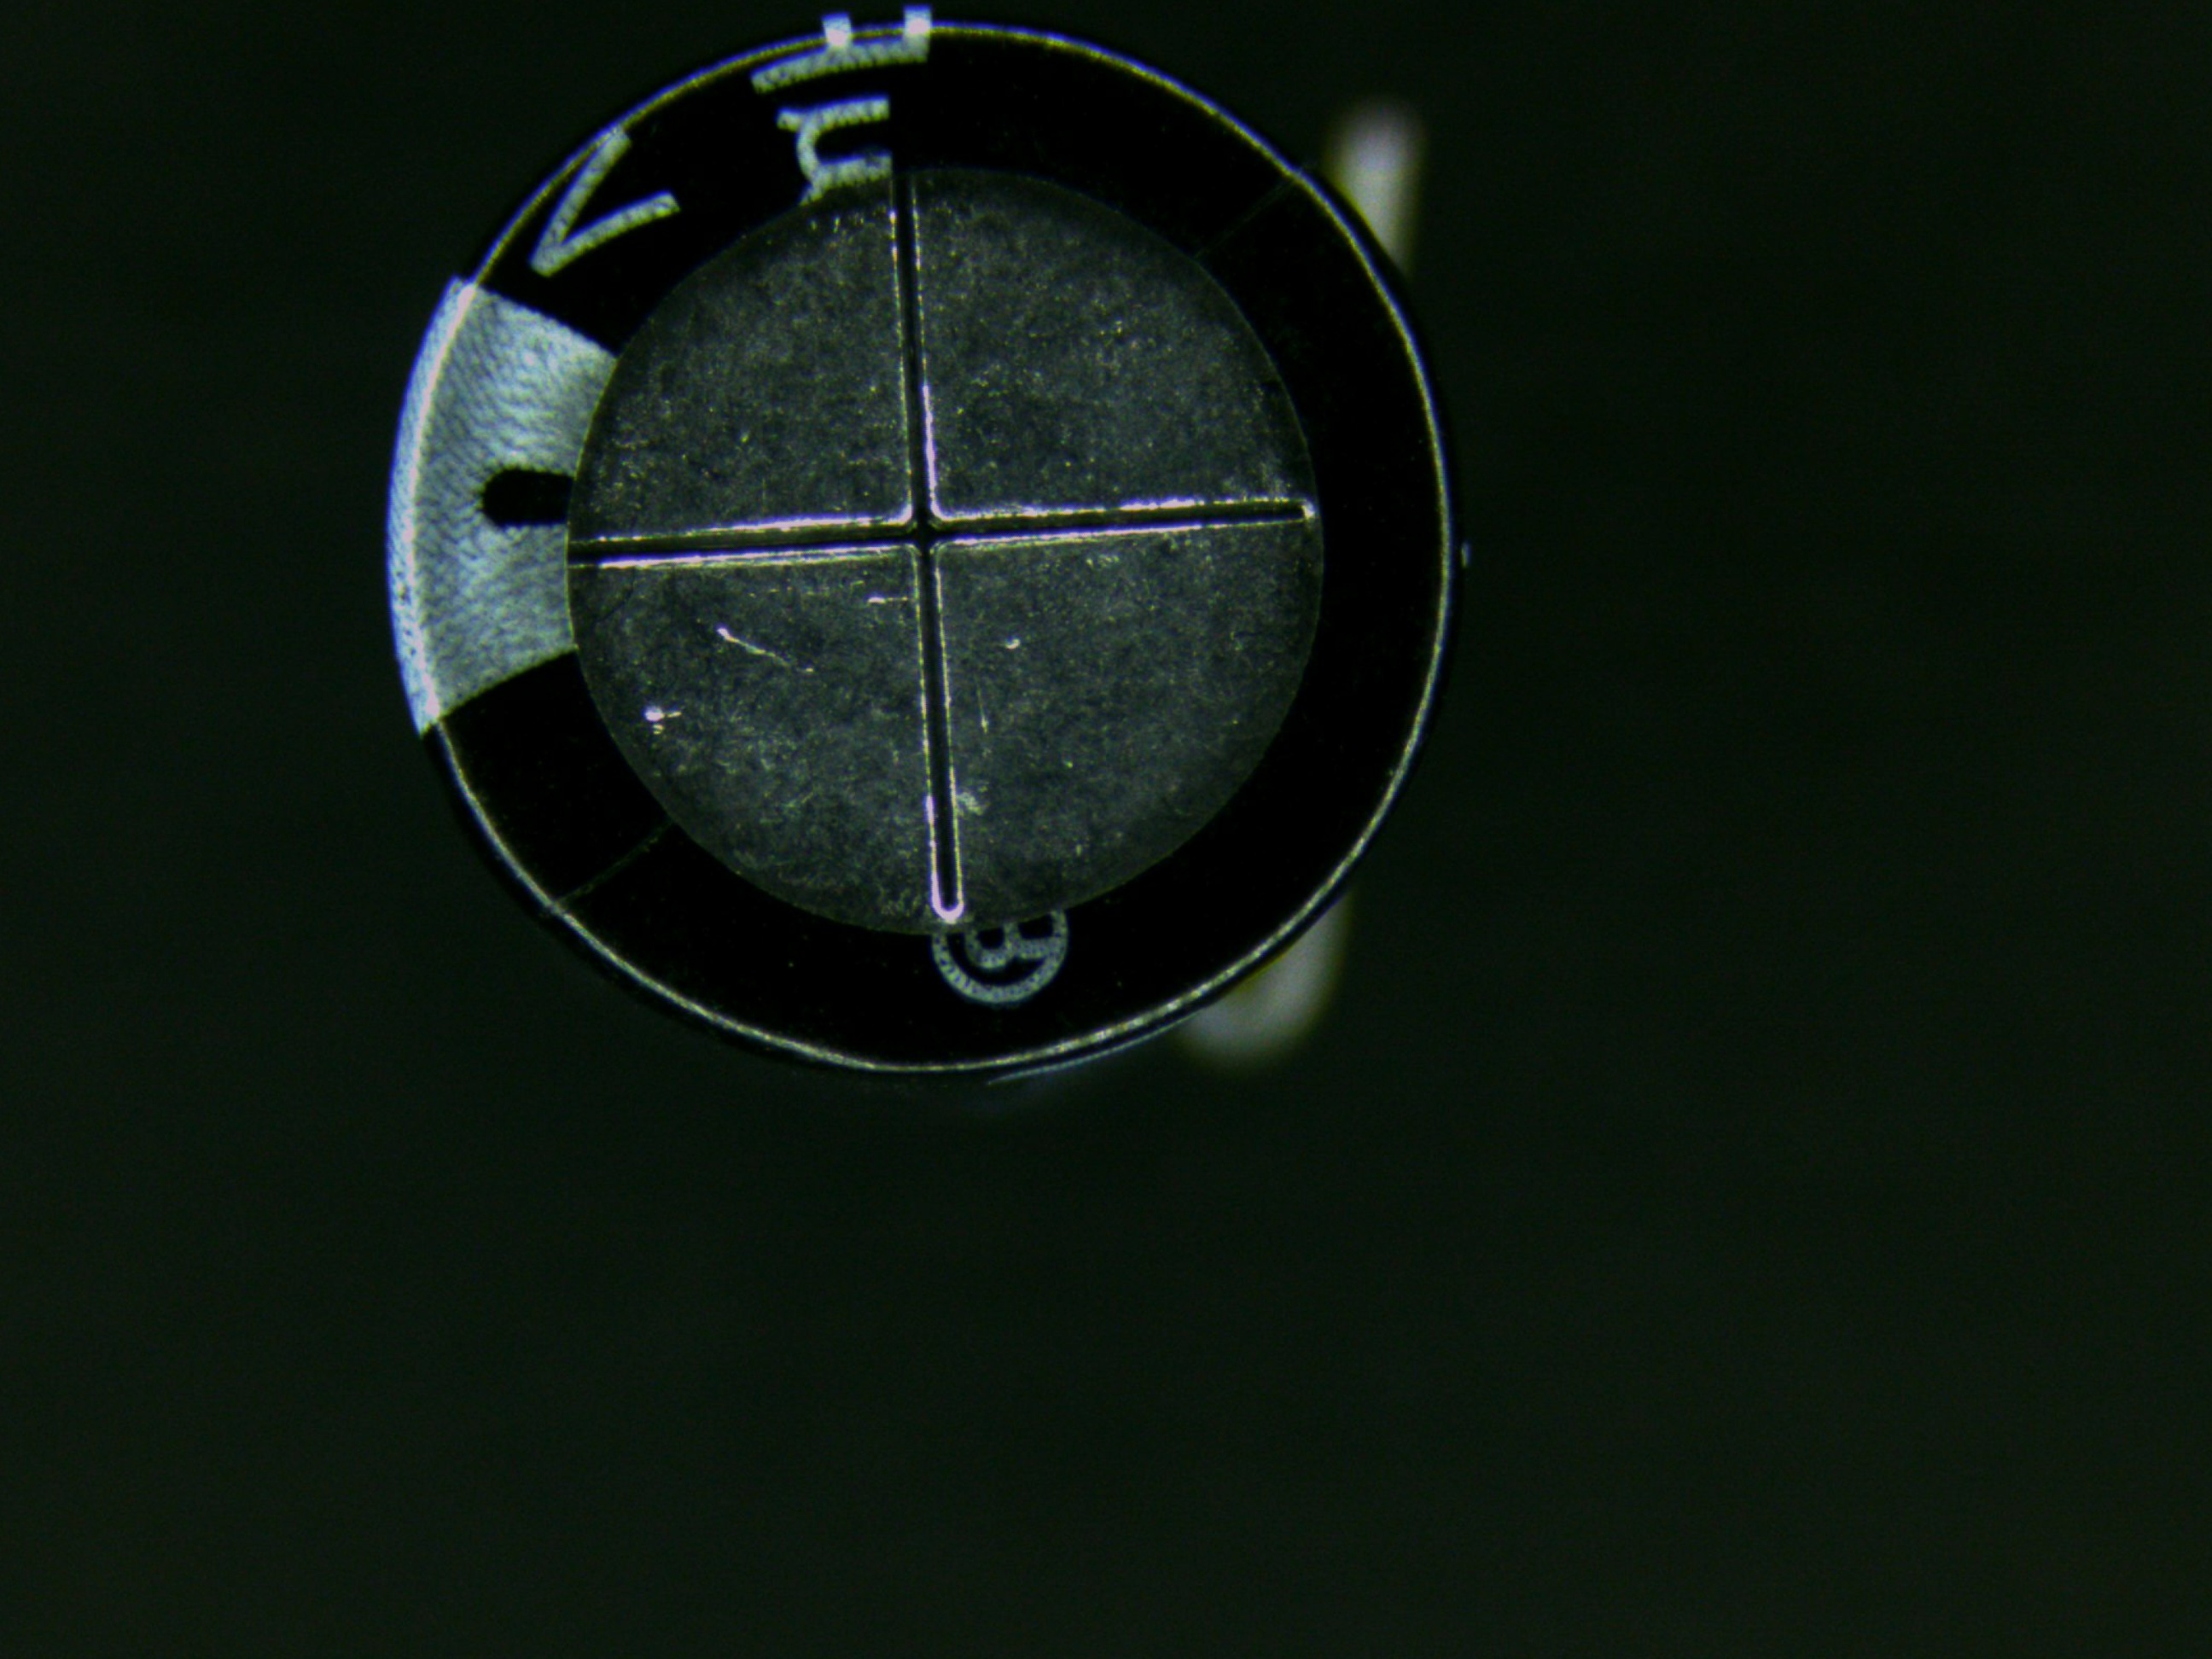c3: (380, 0, 1456, 1086)
